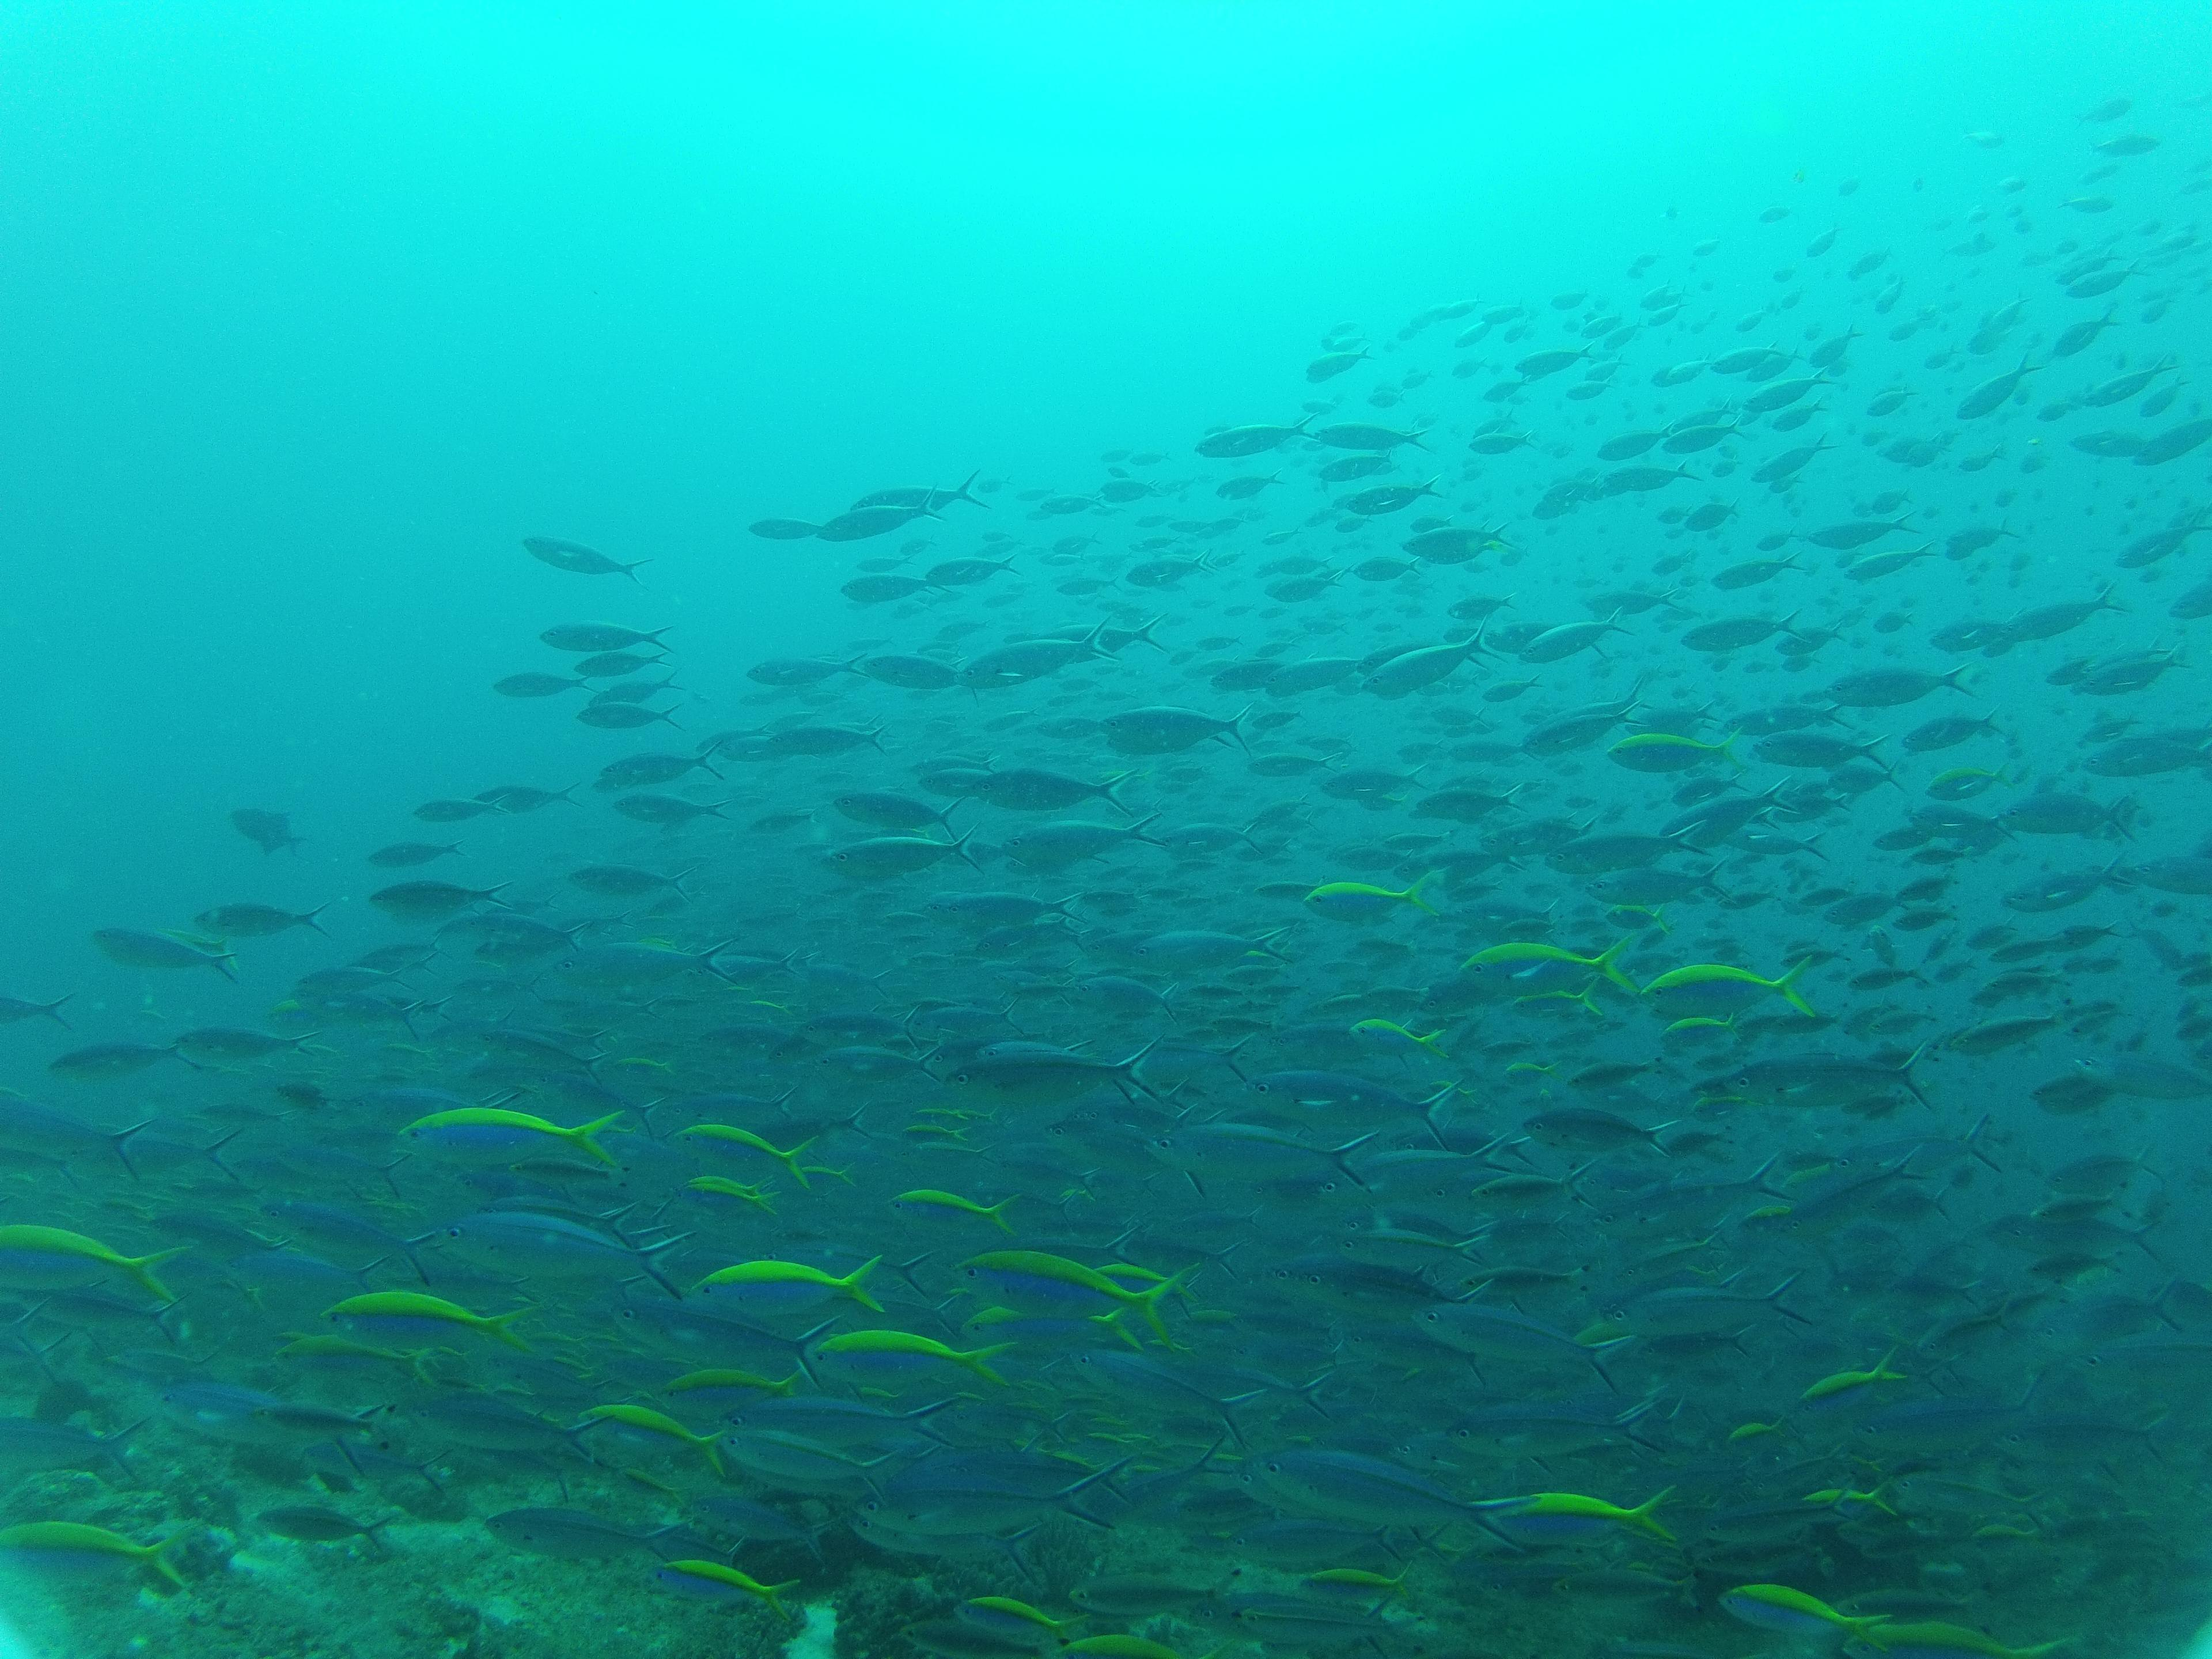Caesio xanthonota: (1489, 1446, 1693, 1575), (390, 1093, 636, 1199), (813, 1309, 1028, 1419), (315, 1284, 545, 1366), (1461, 922, 1635, 1014), (1308, 863, 1423, 932)
